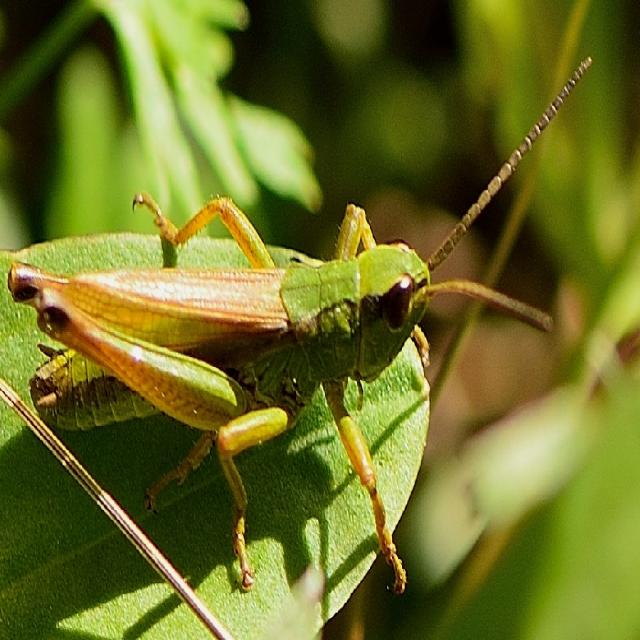ZhaMeng: (7, 185, 500, 447)
